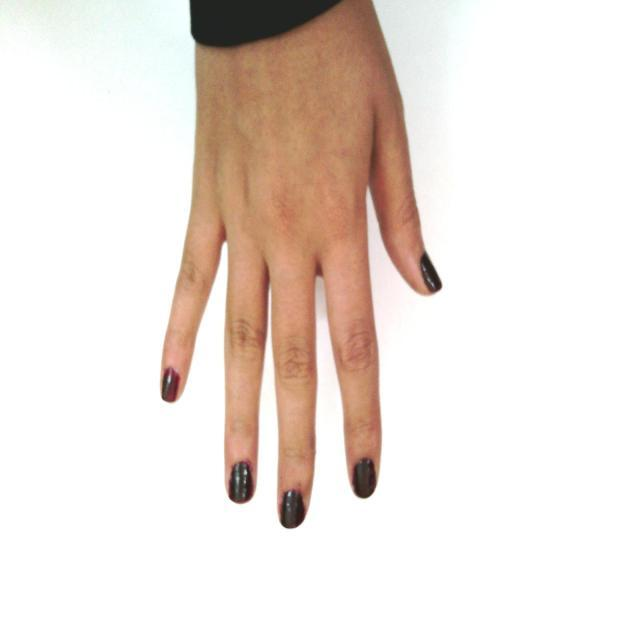Fingernail: (230, 462, 253, 502), (281, 490, 303, 528), (354, 460, 374, 498), (422, 256, 442, 291), (162, 369, 178, 402)
